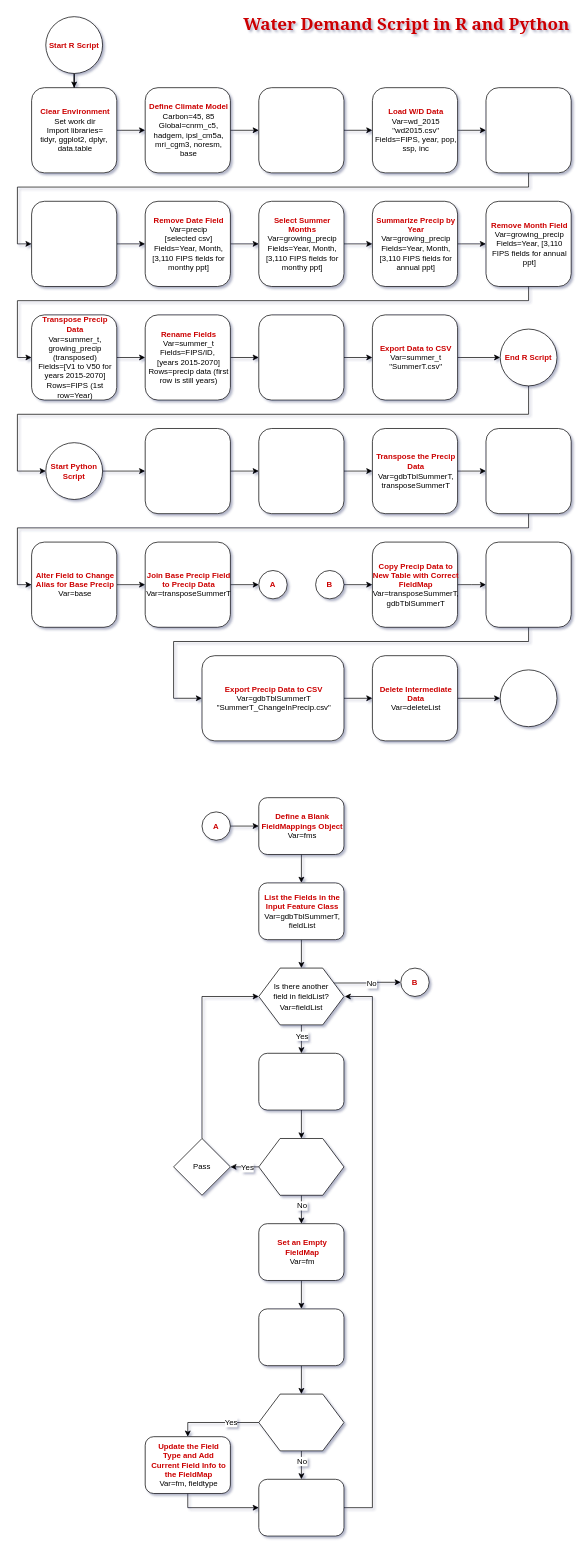
This 588x1553 diagram has some shape labels left out. Here are the shapes that lost their labels. From the top down, the box of each, then its label:
(258, 87, 344, 173): Load Pop'n Data Var=pop_inc "popinc_proj.csv"
(485, 87, 571, 173): Choose Common Variables Var=ew Fields=fips, EastWest, DP.growth, DP.decay
(31, 201, 117, 286): Load Precip Data Var=precip Select csv based on settings for Climate Models
(258, 314, 344, 400): Remove First Row Var=summer_t Fields=FIPS/ID, [years 2015-2070] Rows=precip data
(144, 428, 230, 514): Import CSV to GDB Table Var=gdbTblSummerT
(258, 428, 344, 514): Build List of Fields to Transpose to Rows Var=appendFields, fieldsList
(485, 428, 571, 514): Create 'Base' Data from 2015 Var=base
(485, 541, 571, 627): Add and Calculate 'Change in Precip' Field precipChange = precip - precipBase
(499, 669, 557, 727): End Python Script
(258, 1053, 344, 1110): Set the Current Field Var=field
(258, 1138, 344, 1195): Is the field name in the Skip List? Var=skipfields
(258, 1308, 344, 1366): Add Input FC Field Info to the FieldMap Var=fm
(258, 1393, 344, 1451): Does the field.name match one you wish to modify?
(258, 1479, 344, 1536): Add the FieldMap to the FieldMappings Object Var=fms
